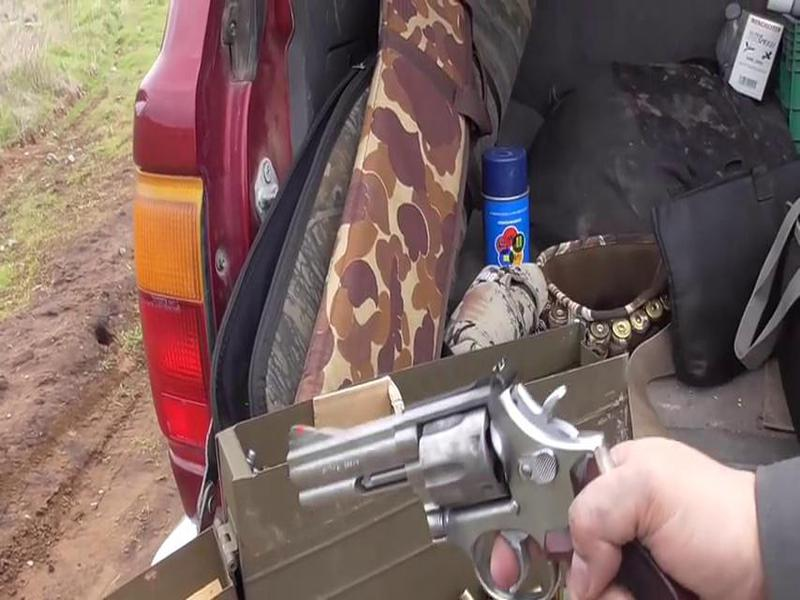Revolver: (238, 374, 657, 600)
